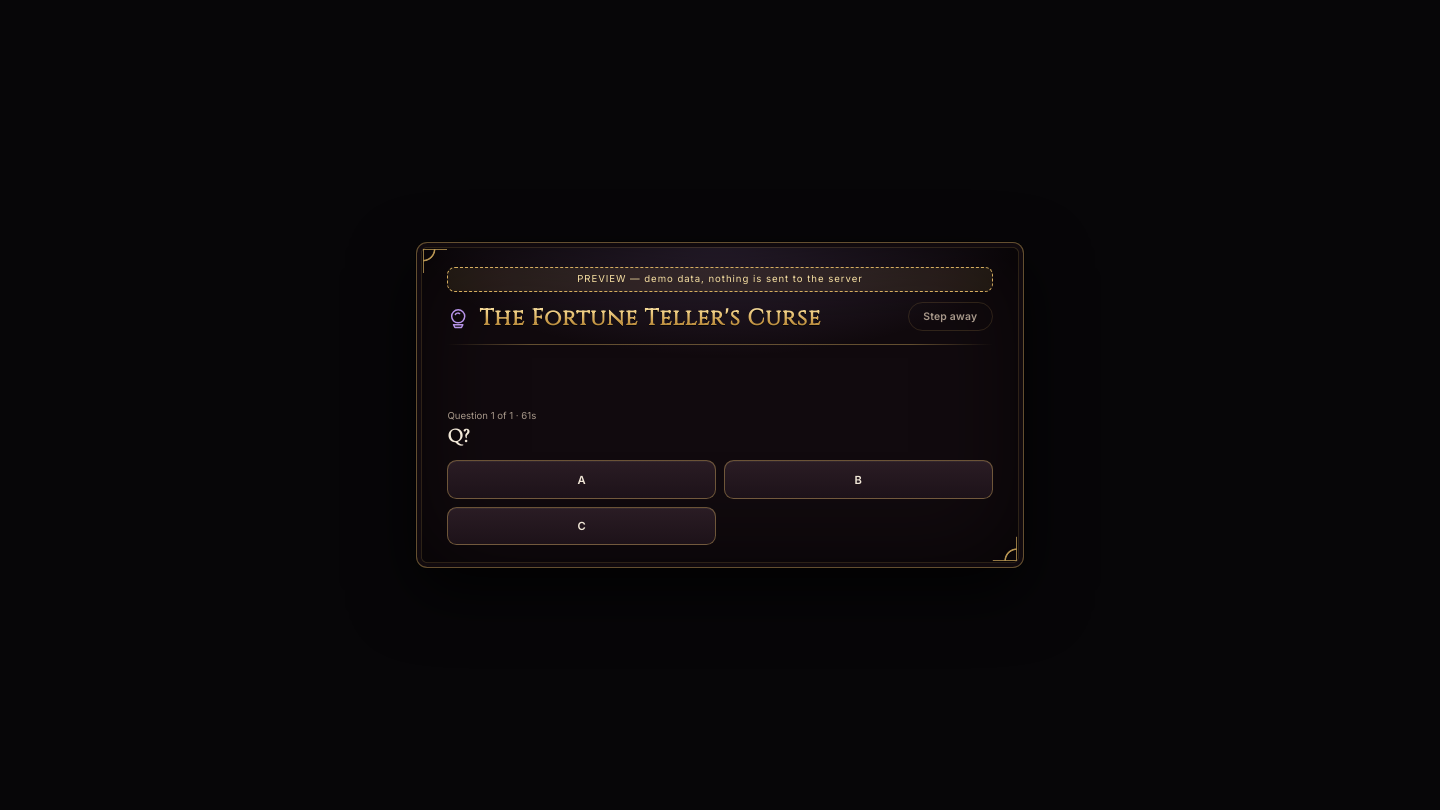
Test: preview mode › fortune and deception previews never call the server
Click the button "C".
click(582, 526)  # box [447,507,716,545]
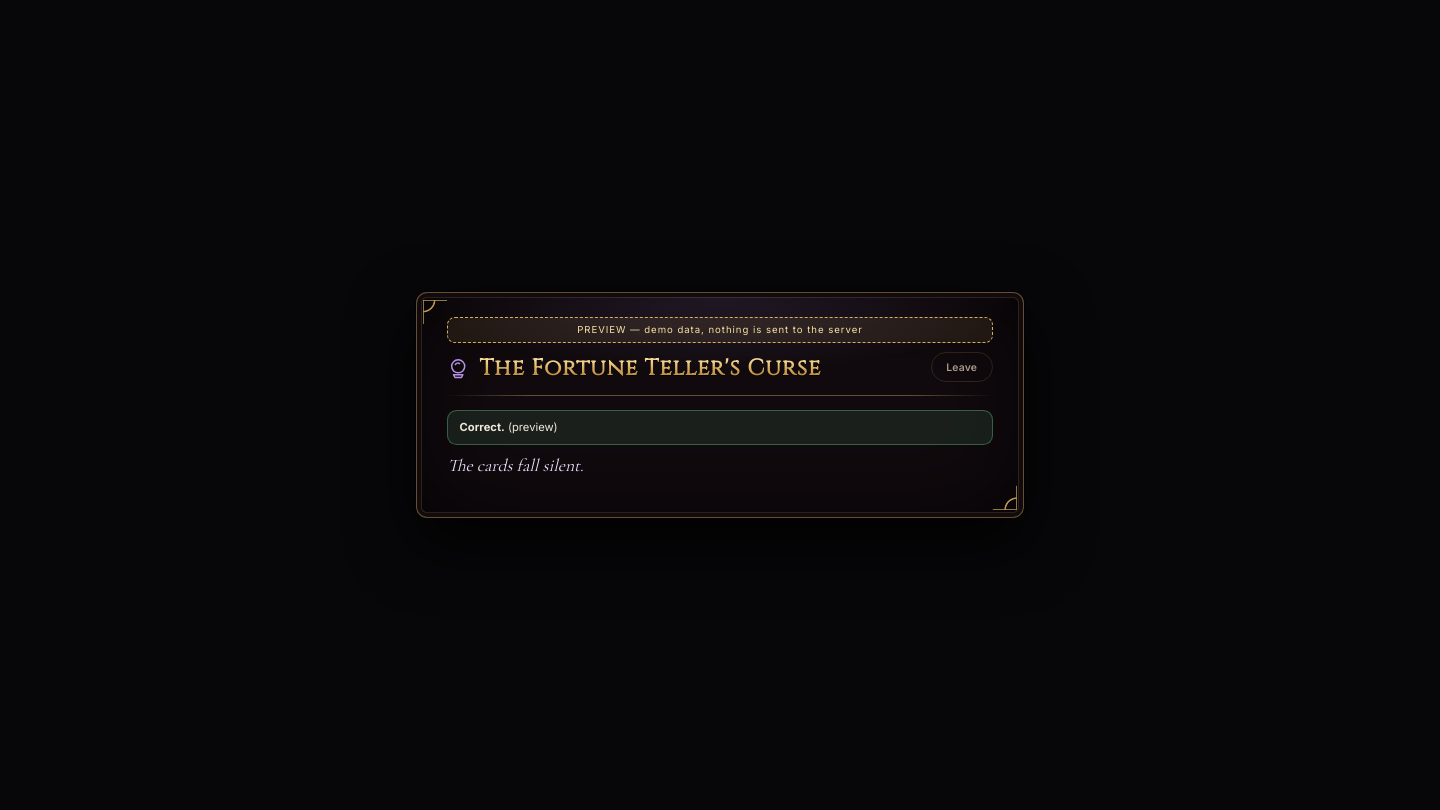
expect the text "Correct." is shown: met, box [460,420,505,434]
